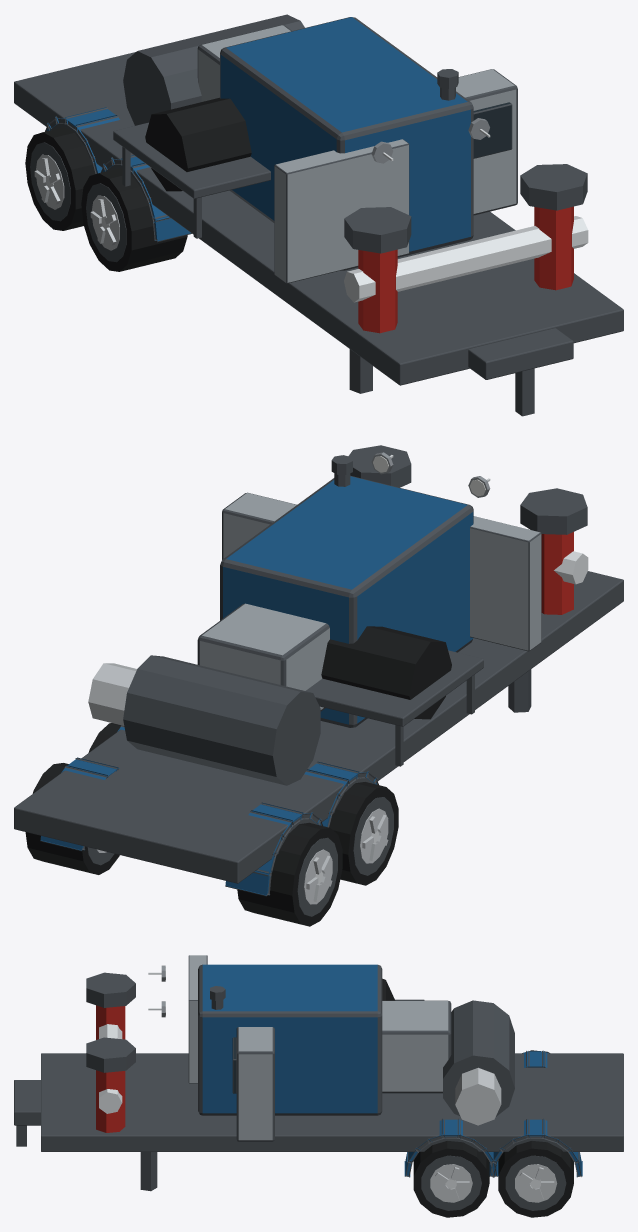
The model's file is veh_frac_pump_trailer.glb.
3 renders of one model, top to bottom at view 1: azimuth 30°, elevation 25°; view 2: azimuth 150°, elevation 25°; view 3: azimuth 270°, elevation 25°, orthographic. The views are drawn at different scales.
Visible parts, largest first — view 1: veh_frac_pump_trailer; view 2: veh_frac_pump_trailer; view 3: veh_frac_pump_trailer.
Boxes of the visible parts, x1,y1,x2,y2 form: veh_frac_pump_trailer: (14,14,623,416); veh_frac_pump_trailer: (14,445,623,926); veh_frac_pump_trailer: (14,955,623,1217).
Size of the model in its own units: 3.21 by 2.86 by 7.95.
